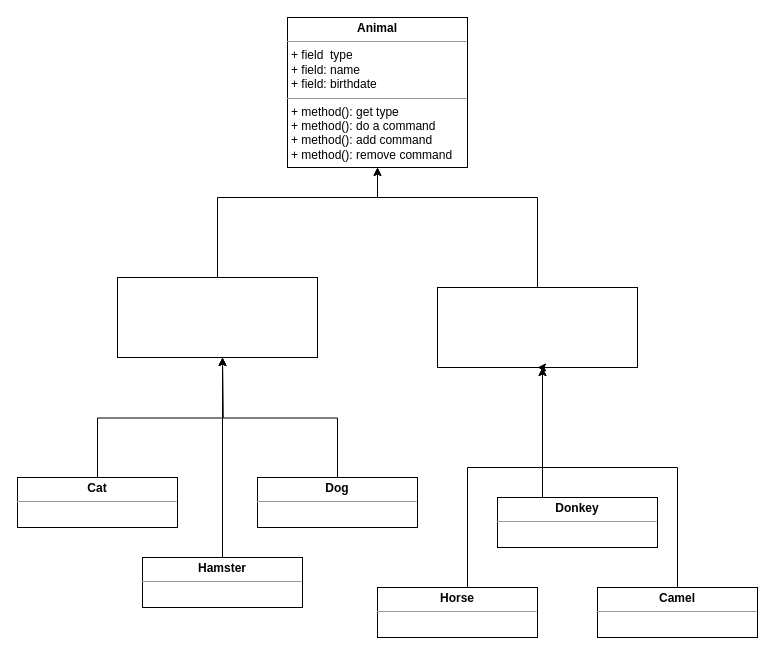
Image size: 775x663. Some labels were removed from this diagram. Each missing label, with the box of its shape:
Pack animal + field: type default PACK_ANIMAL: (436, 286, 638, 368)
Pet animal + field: type default PET_ANIMAL: (116, 276, 318, 358)
